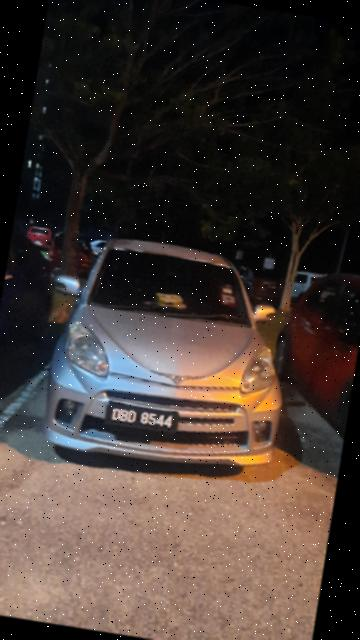License_Plate: (104, 397, 184, 438)
car: (29, 230, 310, 487)
